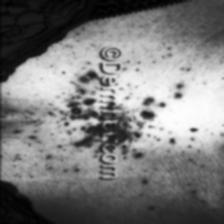Non-Cancerous Skin Condition: (66, 72, 96, 122), (140, 98, 164, 120), (119, 112, 134, 142), (174, 84, 186, 101)
